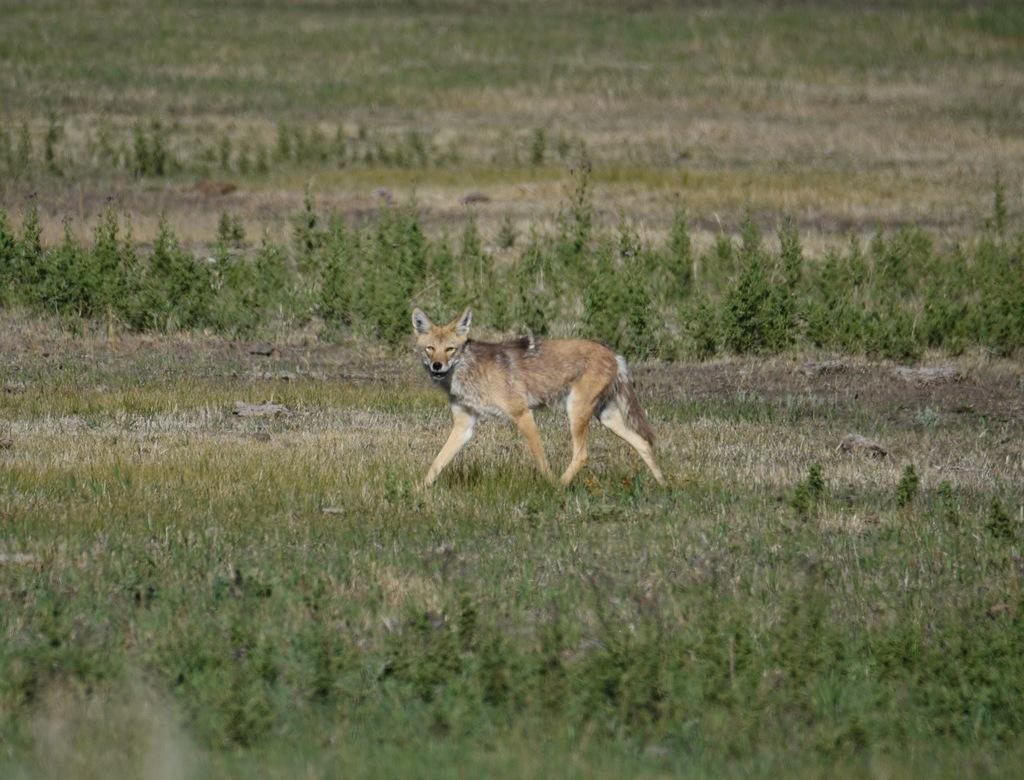Coyote: (405, 303, 667, 499)
